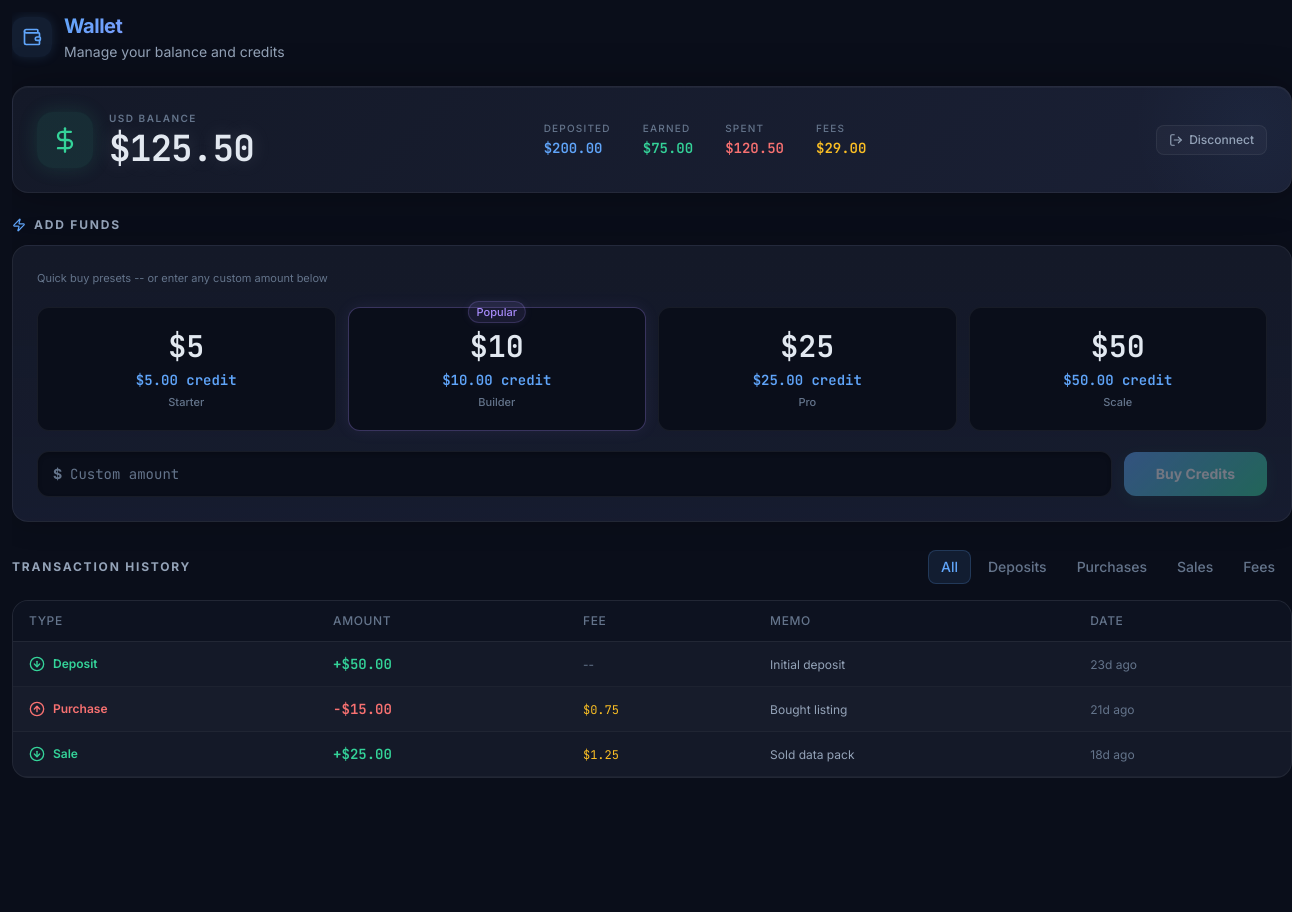
Test: WalletPage › selects a credit package and sets deposit amount
The image size is (1292, 912).
# Click the Starter package ($5)
Click the text "Starter".
click(186, 402)  # box [168,394,204,408]
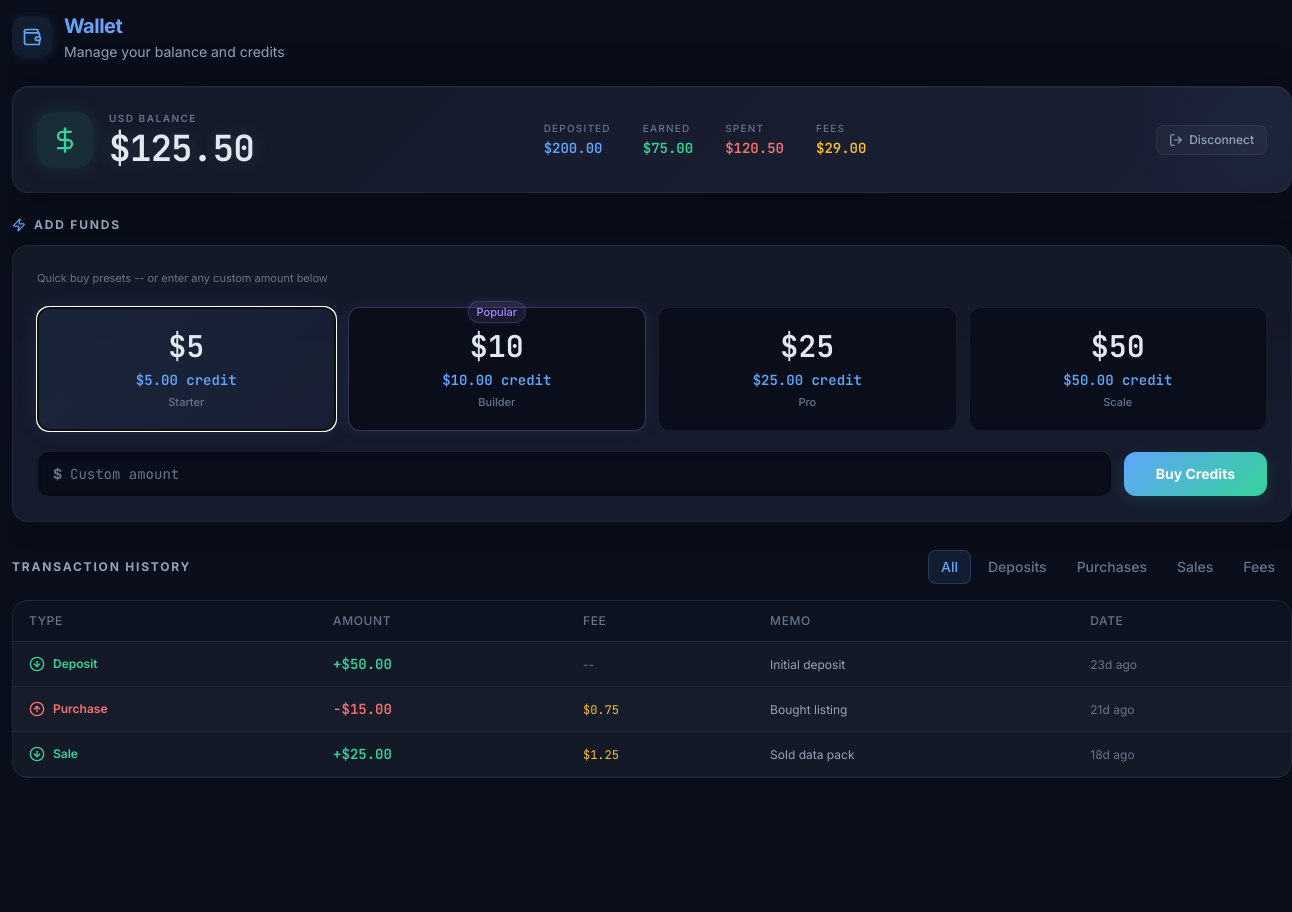
Expected: the button "Buy Credits" is enabled, [1124,452,1267,496]
